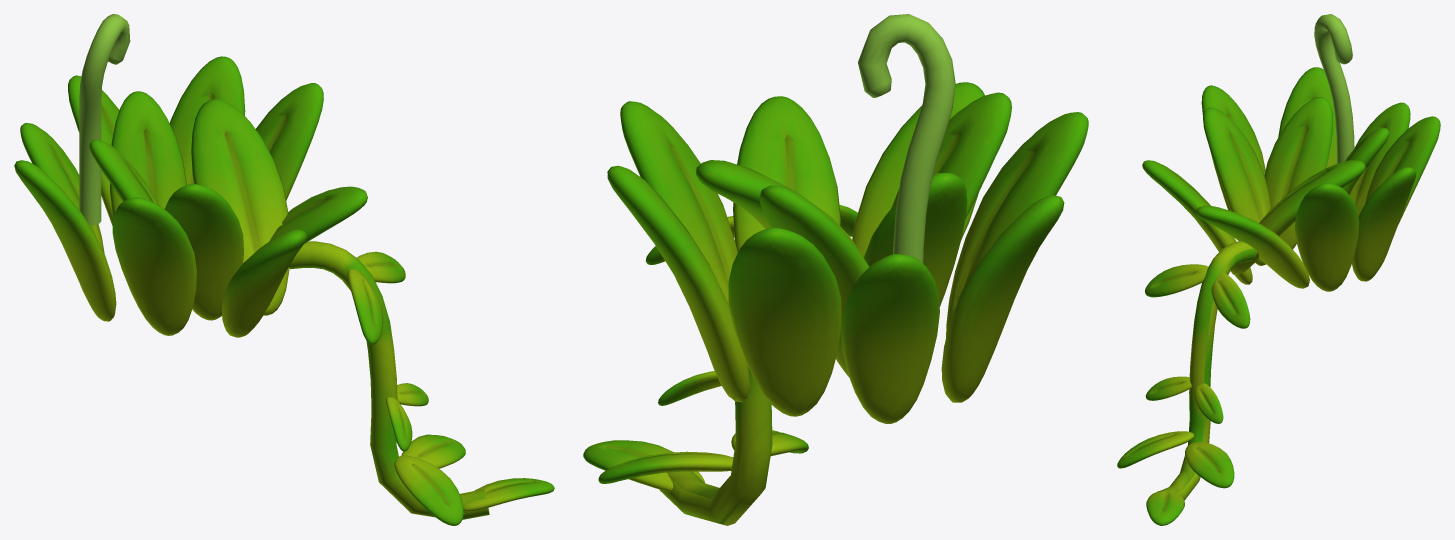
The model's file is Farmhouse_ROOM_decorateflower_v01.glb.
3 views of the same model, side by side, from view 1: azimuth 30°, elevation 25°; view 2: azimuth 150°, elevation 25°; view 3: azimuth 270°, elevation 25° (orthographic). The views are drawn at different scales.
Parts seen in each view (by area): view 1: Farmhouse_ROOM_decorateflower_v01; view 2: Farmhouse_ROOM_decorateflower_v01; view 3: Farmhouse_ROOM_decorateflower_v01.
Part boxes in pixels (x1,y1,x2,y2): Farmhouse_ROOM_decorateflower_v01: [14, 14, 554, 525]; Farmhouse_ROOM_decorateflower_v01: [583, 14, 1088, 525]; Farmhouse_ROOM_decorateflower_v01: [1117, 14, 1440, 525].
Size of the model in its own units: 0.8368 by 0.8937 by 0.6671.
Materials: 2 (1 with a texture image).
